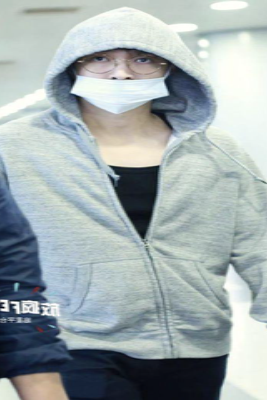mask_weared_incorrect: (69, 50, 174, 114)
